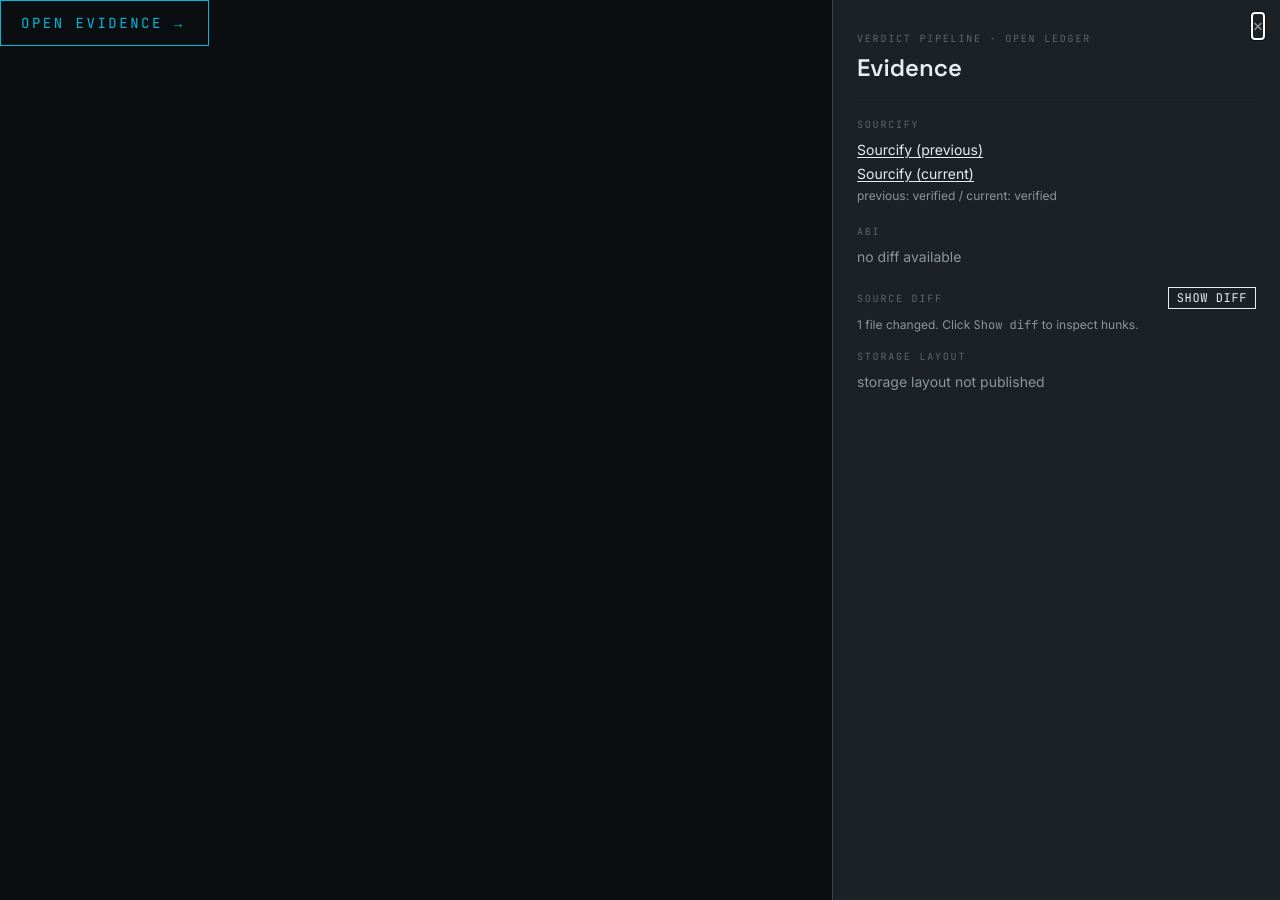
Test case: EvidenceDrawer › hides the SourceDiffRenderer behind a 'Show diff' button when sourceDiff is supplied
Expected: the text "1 file changed. Click Show diff to inspect hunks." is shown, [857, 317, 1139, 333]
Click the button "Show diff" at x=1212, y=298, box [1168, 287, 1256, 309]
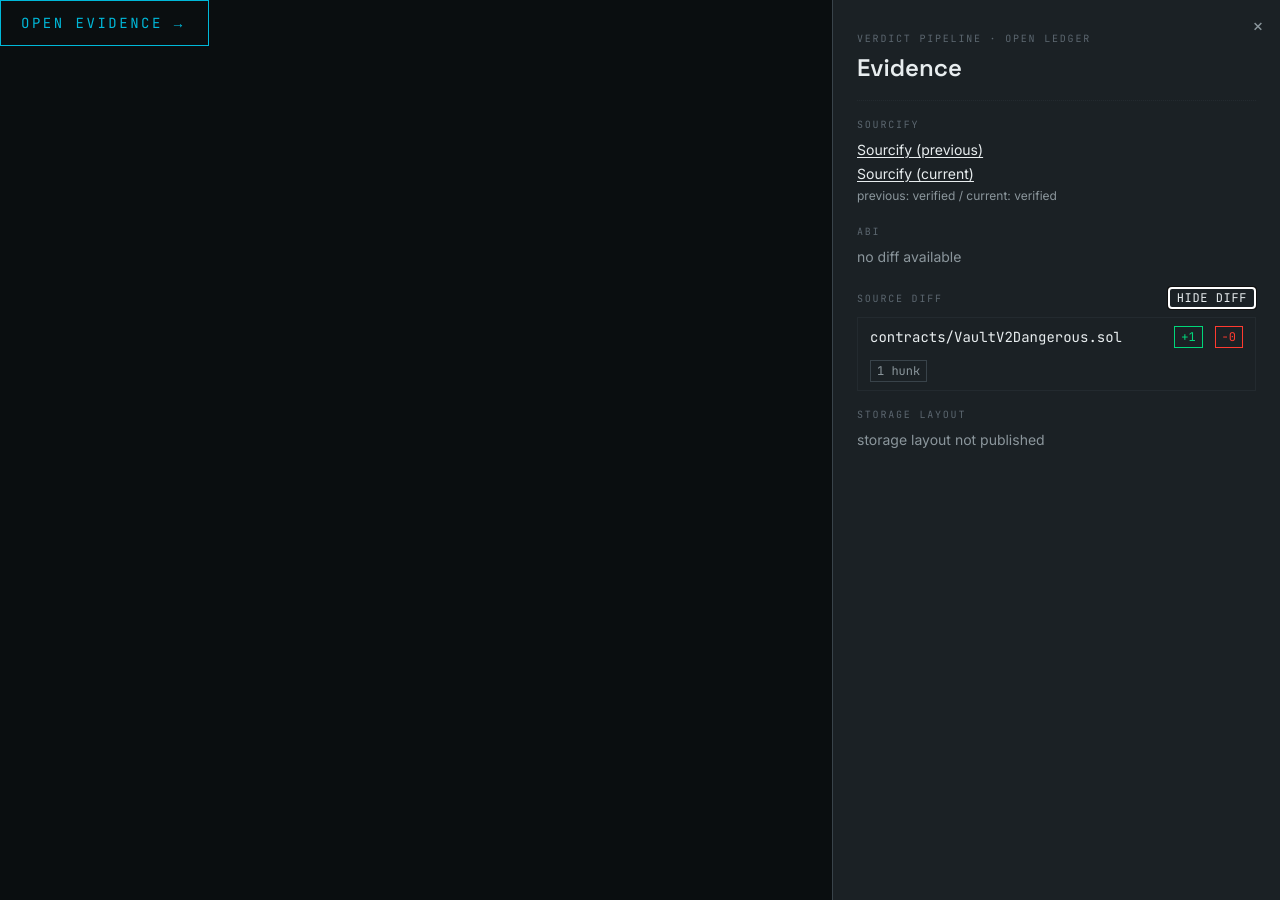
Now the button named "show diff" is expanded, box [1168, 287, 1256, 309]
Now the button named "show diff" reads "Hide diff", box [1168, 287, 1256, 309]
Now the element with test id "source-diff-renderer" is shown, box [857, 317, 1256, 391]
